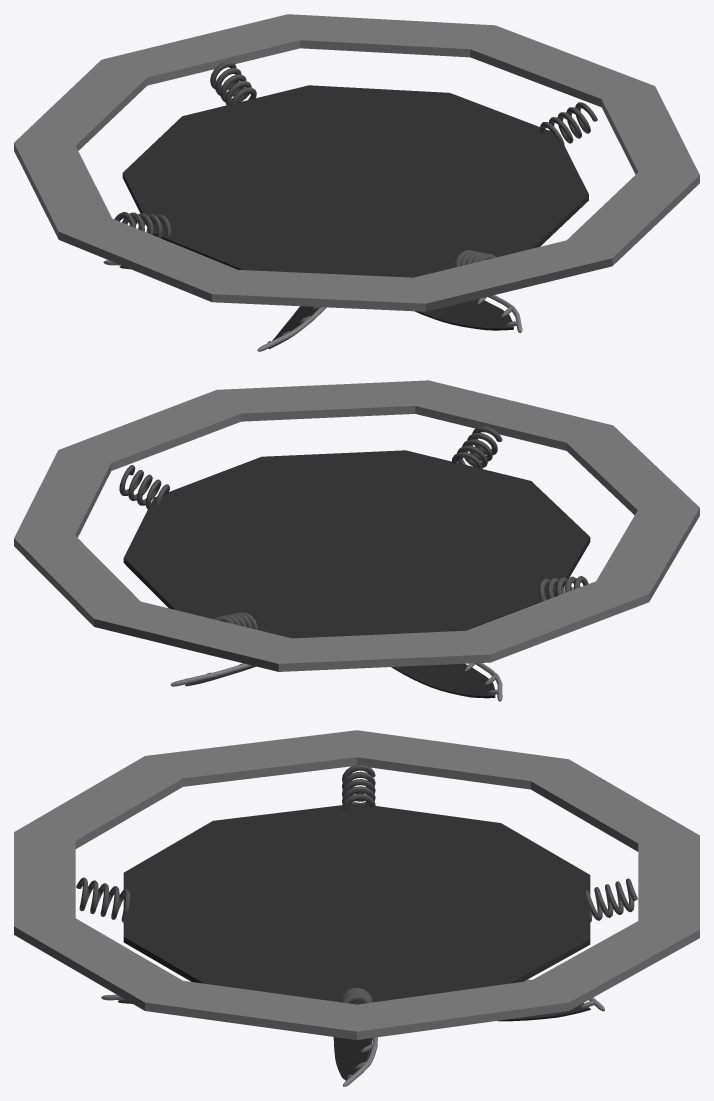
File: greyTrampoline.fbx
3 renders of one model, top to bottom at view 1: azimuth 30°, elevation 25°; view 2: azimuth 150°, elevation 25°; view 3: azimuth 270°, elevation 25°, orthographic. The views are drawn at different scales.
Parts seen in each view (by area): view 1: bouncy_part, rim, wing_body, spring_1, spring_3, spring_2; view 2: bouncy_part, rim, wing_body, spring_4, spring_3, spring_2; view 3: bouncy_part, rim, spring_2, spring_4, spring_1, wing_body.
Boxes of the visible parts, x1,y1,x2,y2 form: bouncy_part: (122, 85, 588, 277); rim: (14, 14, 699, 311); wing_body: (415, 299, 513, 330); spring_1: (210, 61, 256, 105); spring_3: (539, 102, 597, 145); spring_2: (114, 212, 171, 238); bouncy_part: (123, 450, 590, 638); rim: (14, 380, 699, 671); wing_body: (391, 663, 495, 698); spring_4: (451, 426, 502, 468); spring_3: (119, 465, 169, 509); spring_2: (539, 576, 588, 601); bouncy_part: (123, 803, 590, 1004); rim: (14, 730, 699, 1039); spring_2: (342, 764, 375, 809); spring_4: (76, 877, 129, 922); spring_1: (584, 878, 637, 922); wing_body: (333, 1037, 372, 1080).
Bounding box in the file's own units: 37.14 × 7.7 × 35.71.
